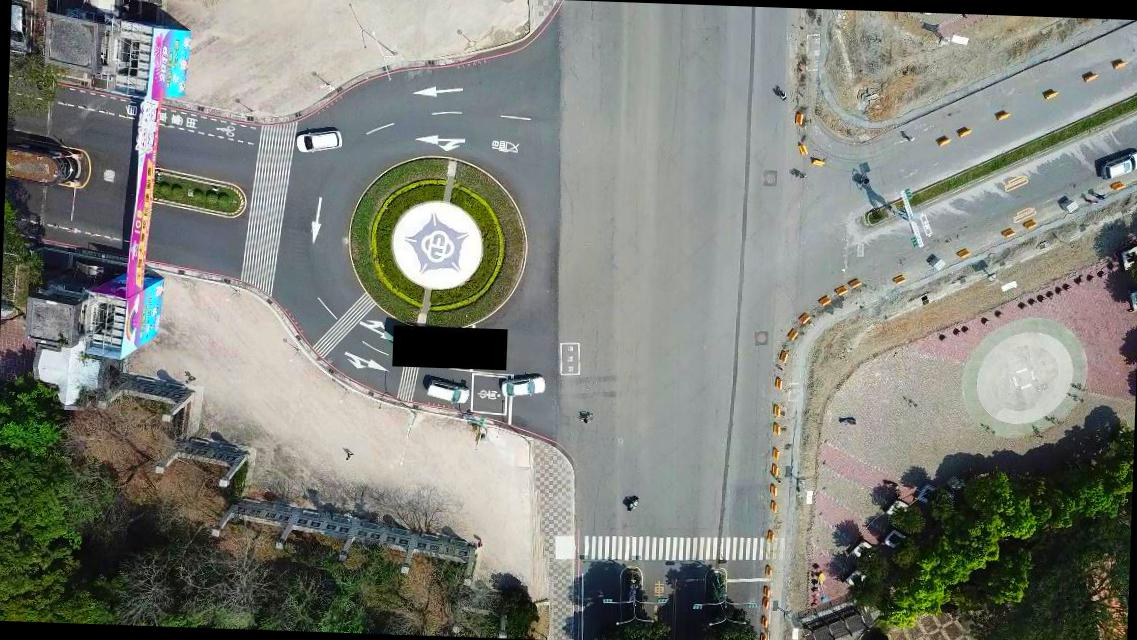vehicle: (296, 126, 343, 155), (1099, 148, 1136, 181), (9, 0, 32, 51), (425, 378, 469, 404), (499, 374, 545, 398)
